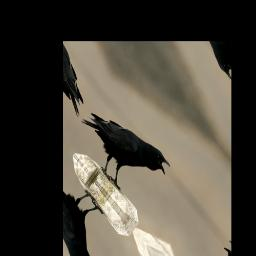Crow: (71, 85, 172, 215)
